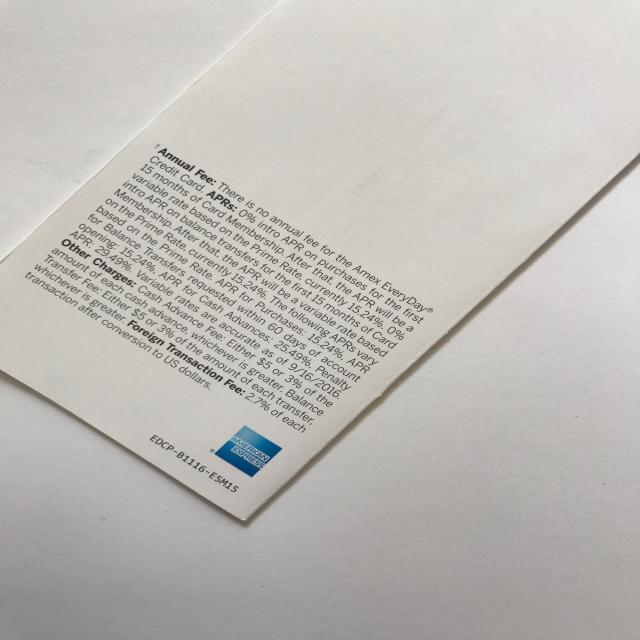paper: (1, 1, 640, 526)
